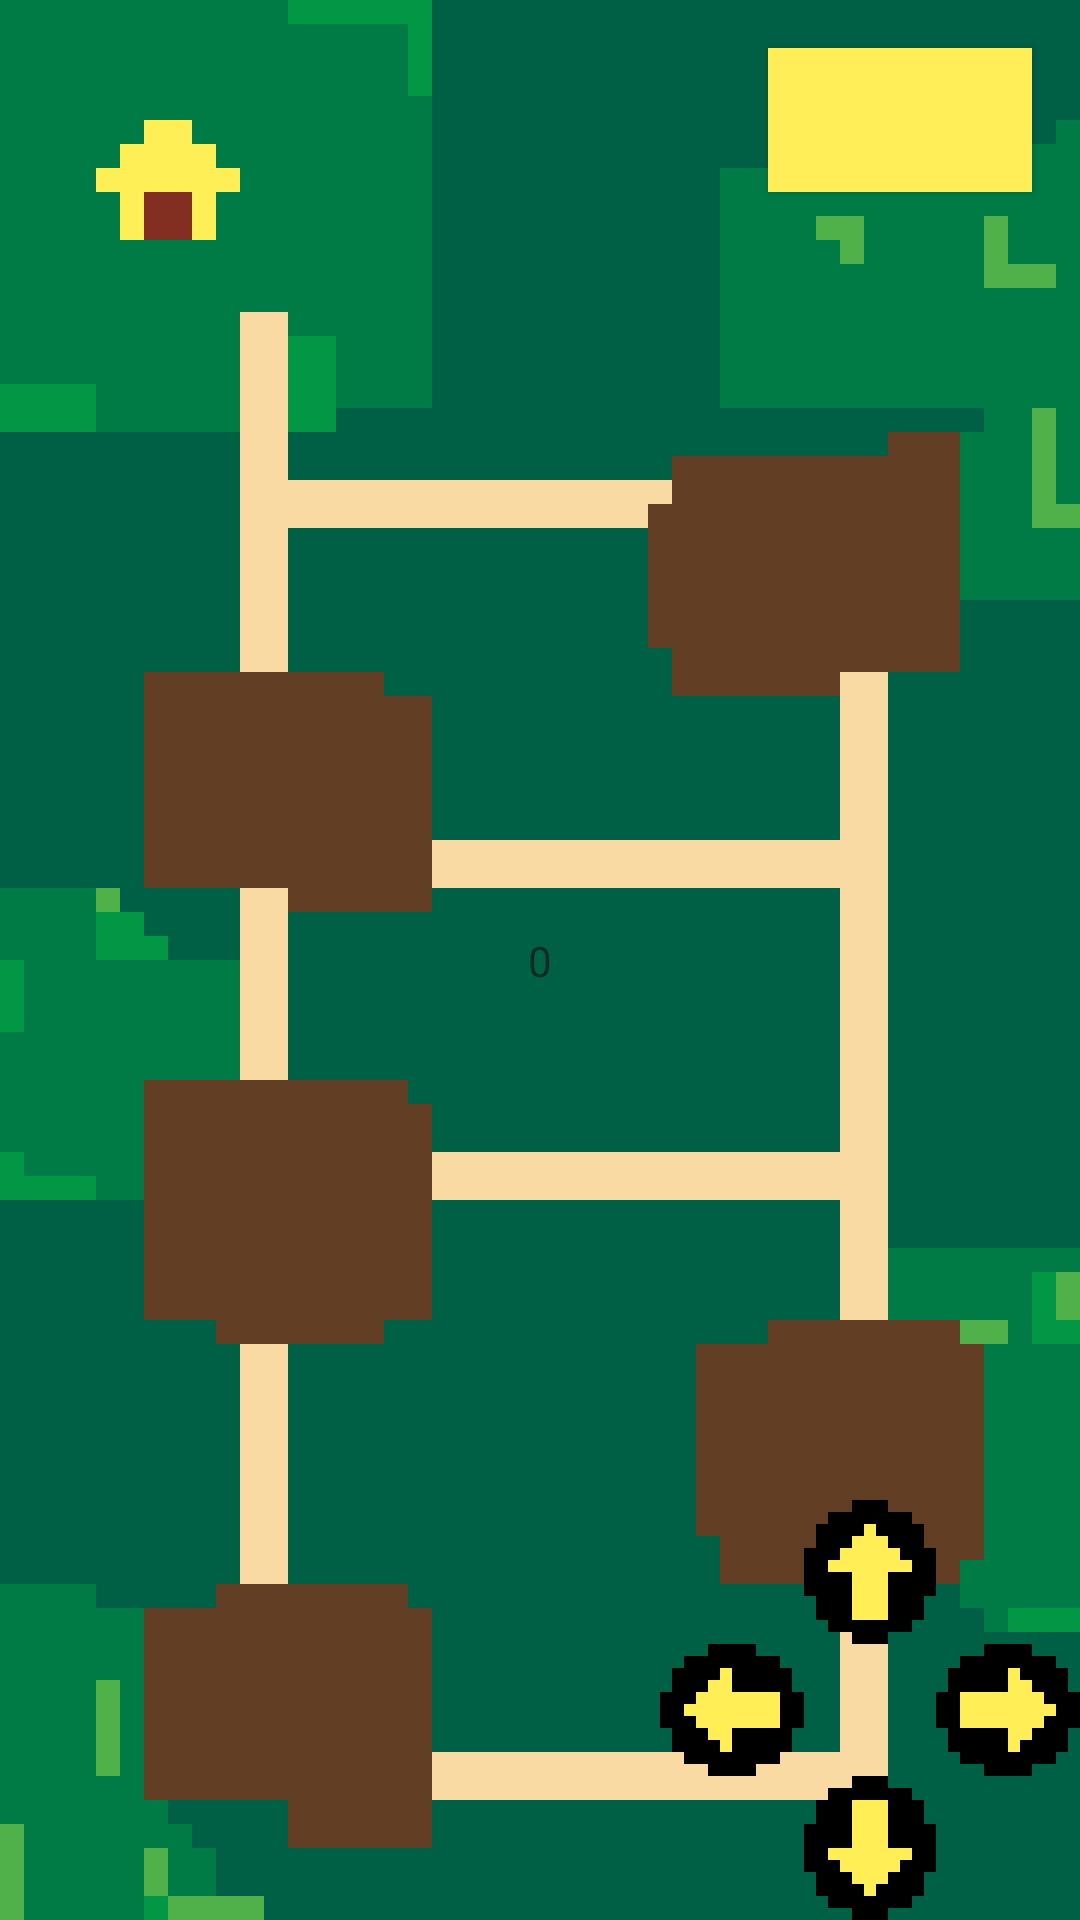

Screen size 1080×1920. Icon name, then its center in pixels as (x=x, y=y):
arrowdown: (x=870, y=1848)
arrowleft: (x=732, y=1710)
arrowright: (x=1008, y=1710)
arrowup: (x=870, y=1572)
